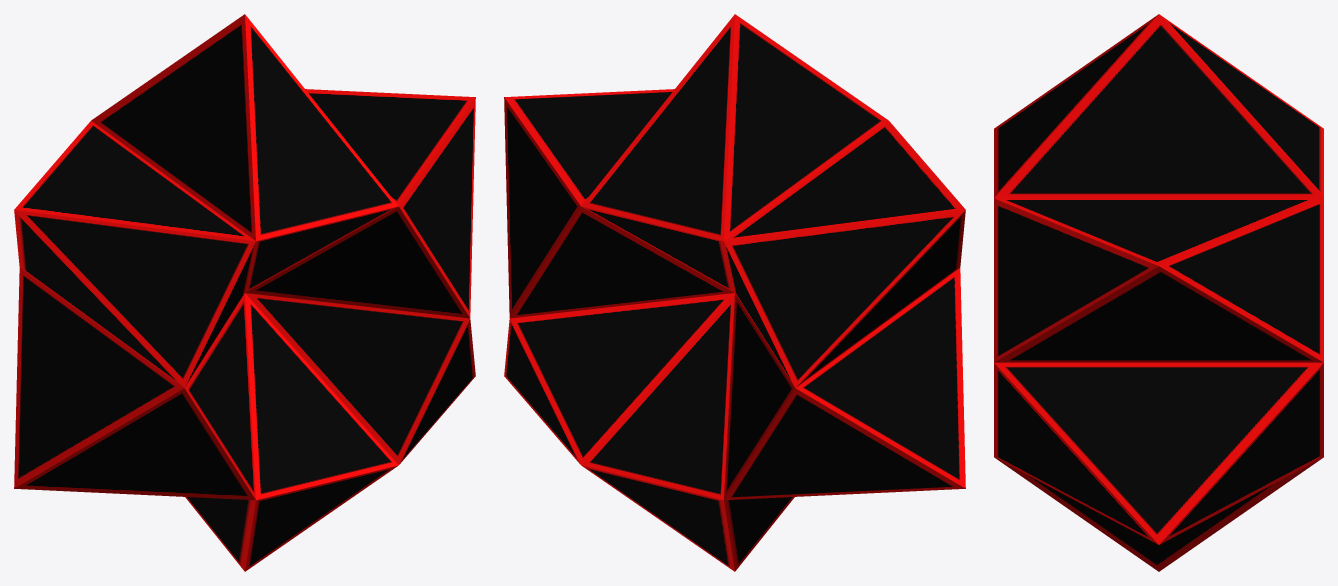
The model's file is Spinner.fbx.
3 renders of one model, left to right at view 1: azimuth 30°, elevation 25°; view 2: azimuth 150°, elevation 25°; view 3: azimuth 270°, elevation 25°, orthographic.
Parts seen in each view (by area): view 1: pCylinder1; view 2: pCylinder1; view 3: pCylinder1.
Part boxes in pixels (x1,y1,x2,y2): pCylinder1: (14, 14, 475, 571); pCylinder1: (504, 14, 965, 571); pCylinder1: (994, 14, 1323, 571).
Bounding box in the file's own units: 3.23 × 3.73 × 2.
Materials: 1 (1 with a texture image).
